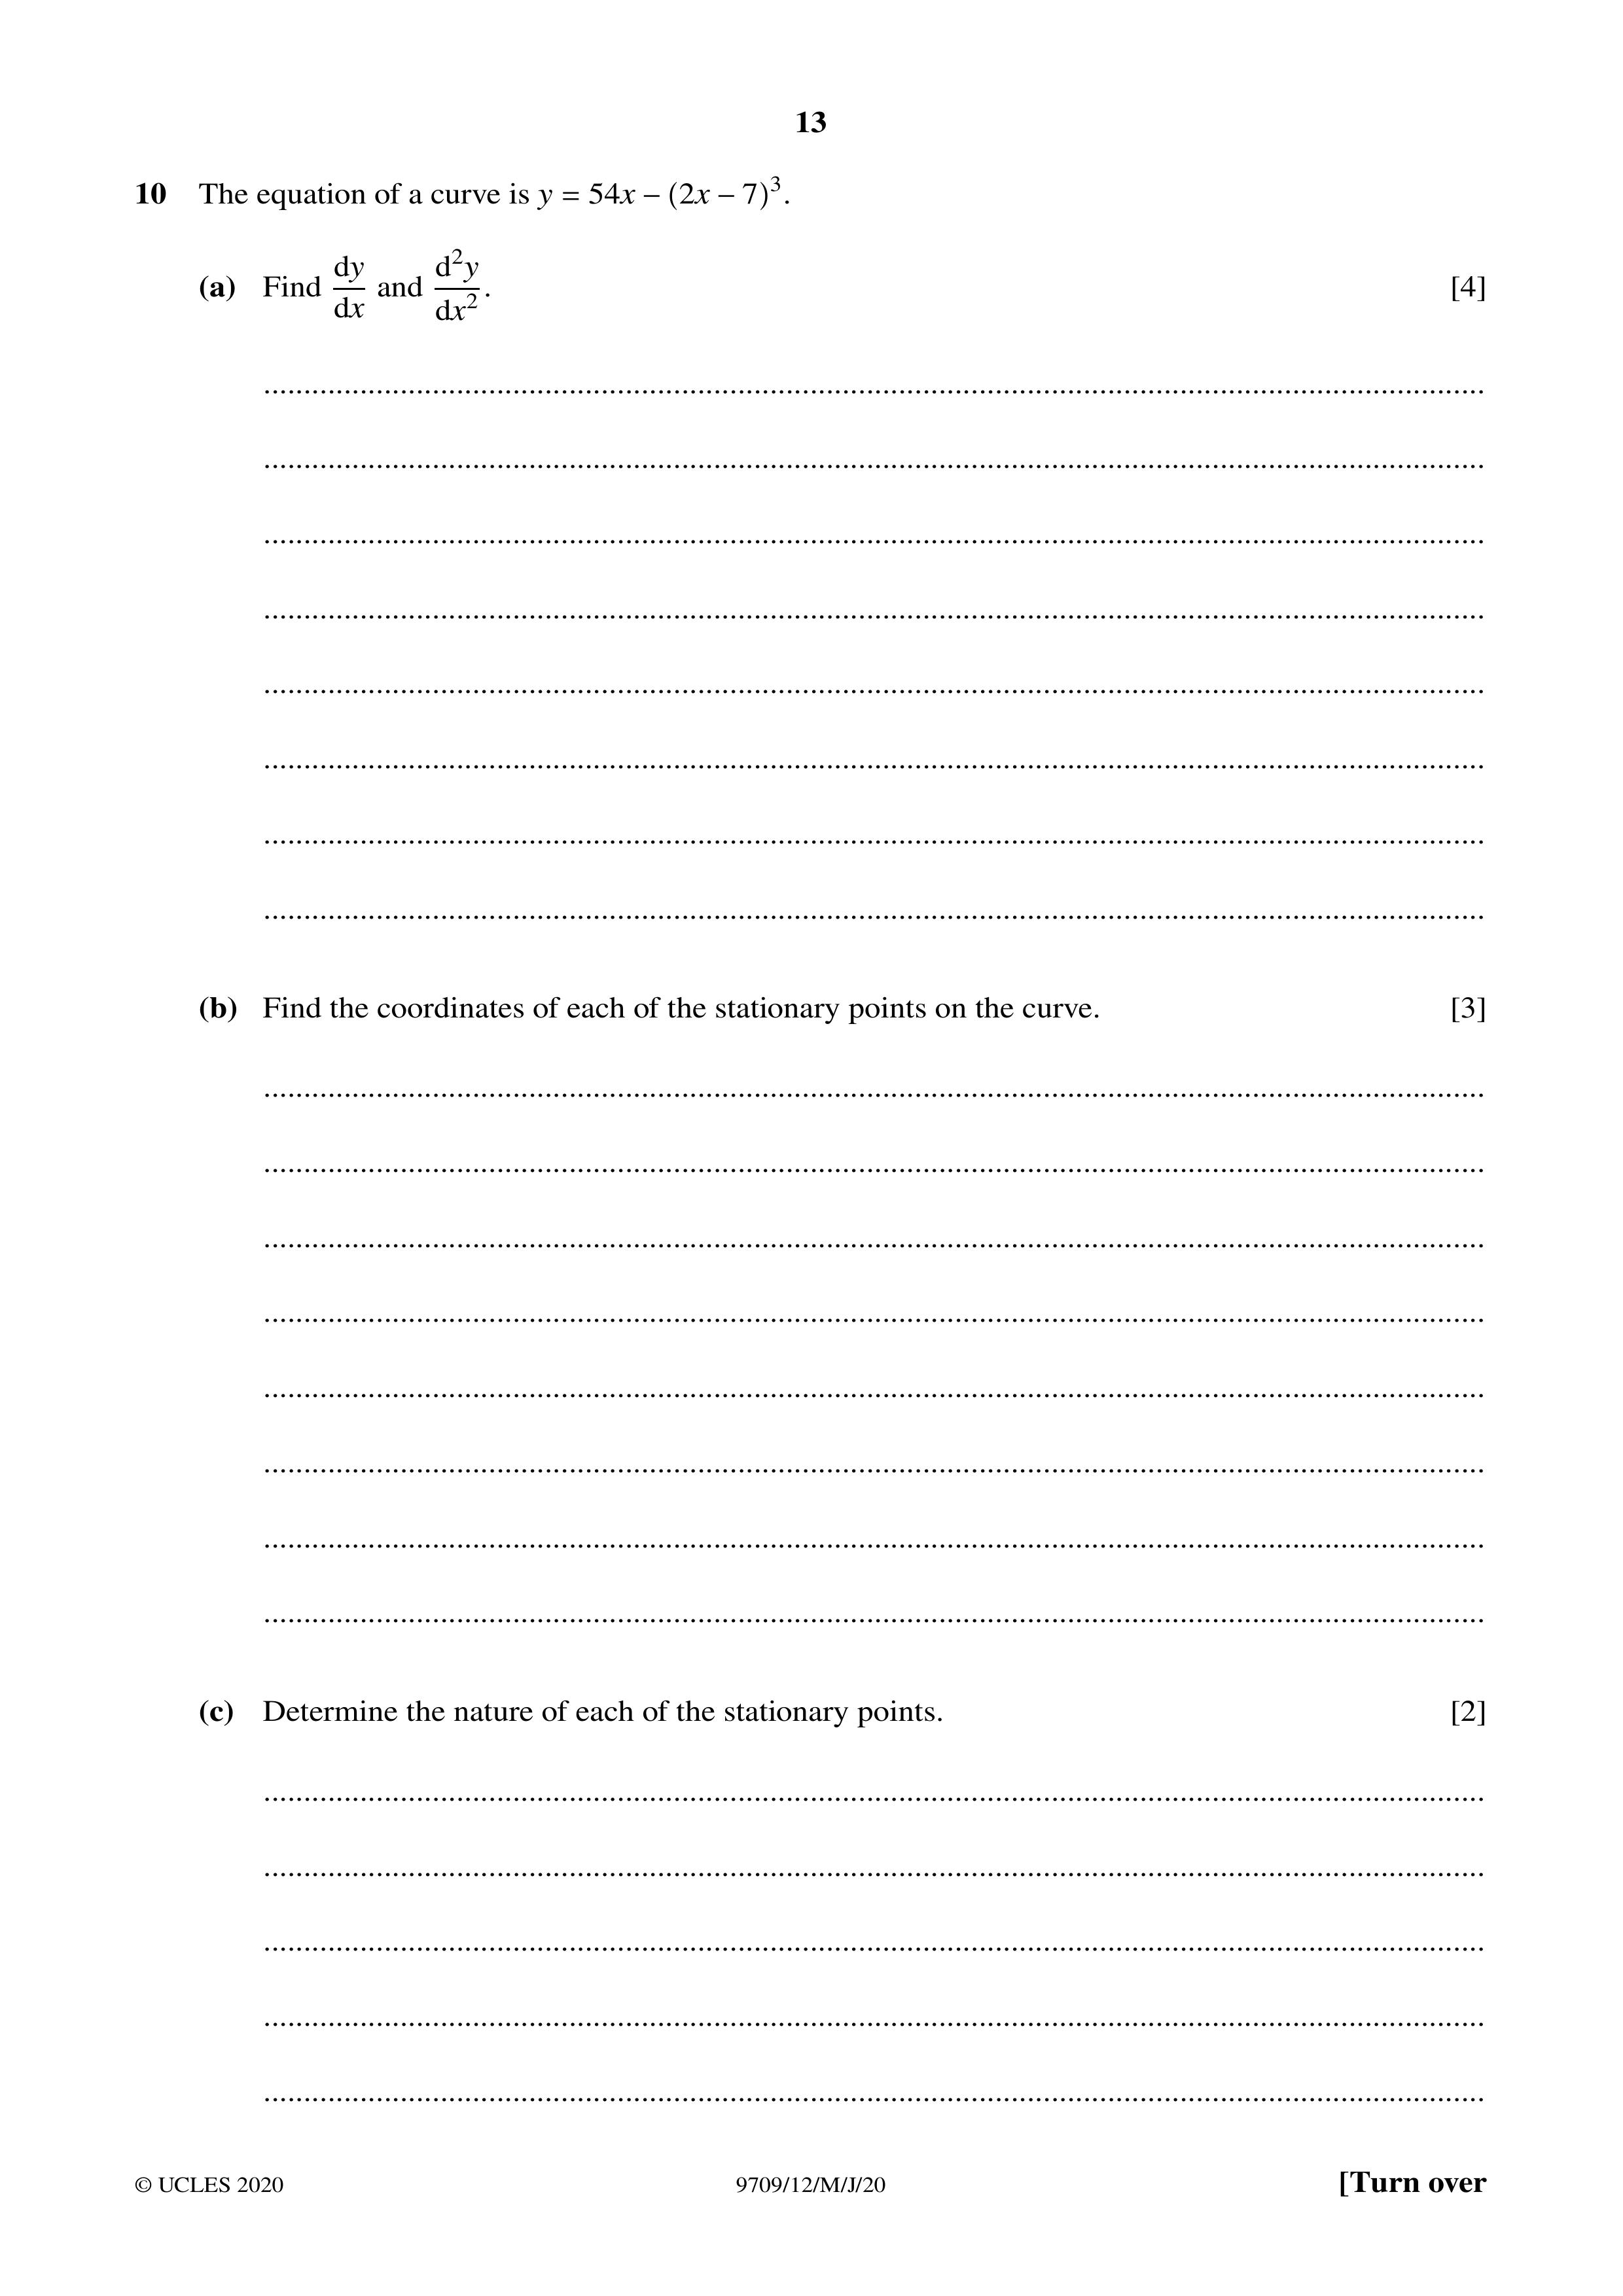question: (114, 149, 1525, 365), (148, 1638, 1535, 1783), (142, 934, 1518, 1076)
